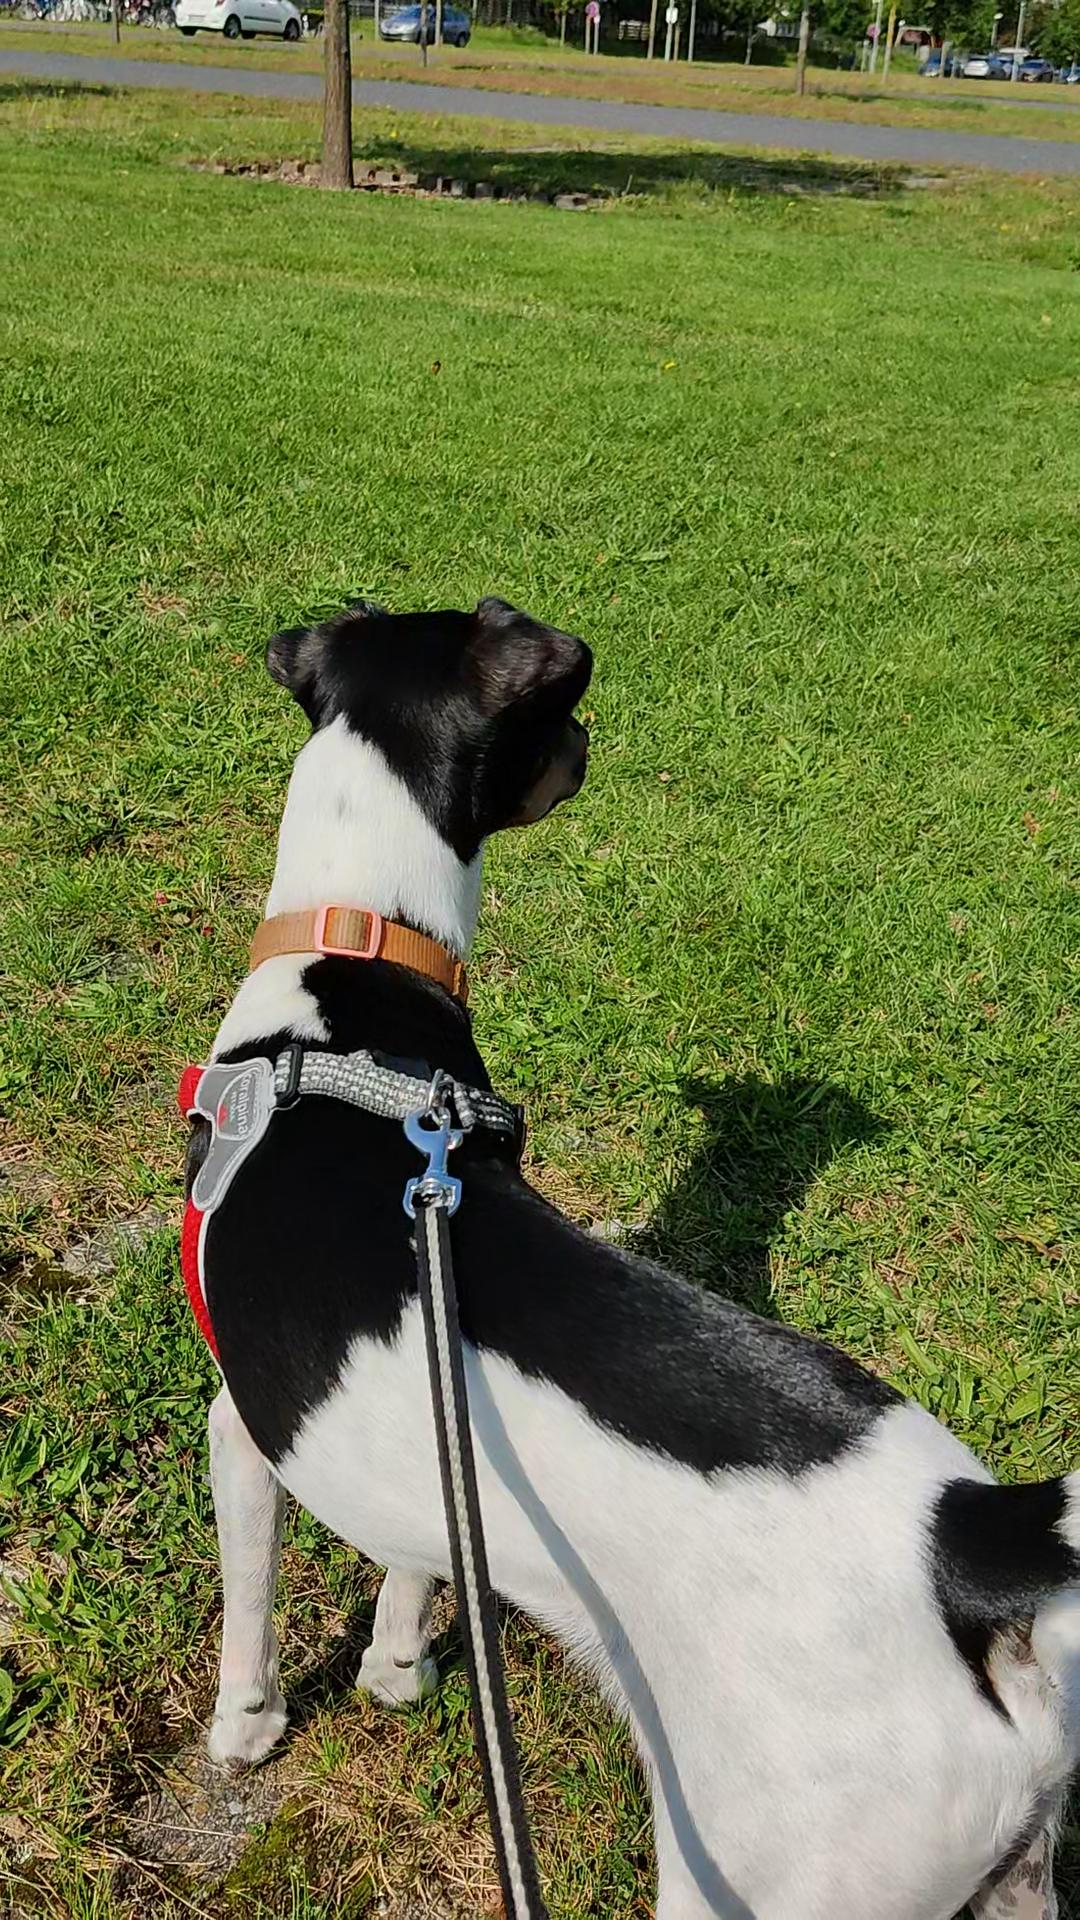Dog: (164, 559, 1079, 1919)
